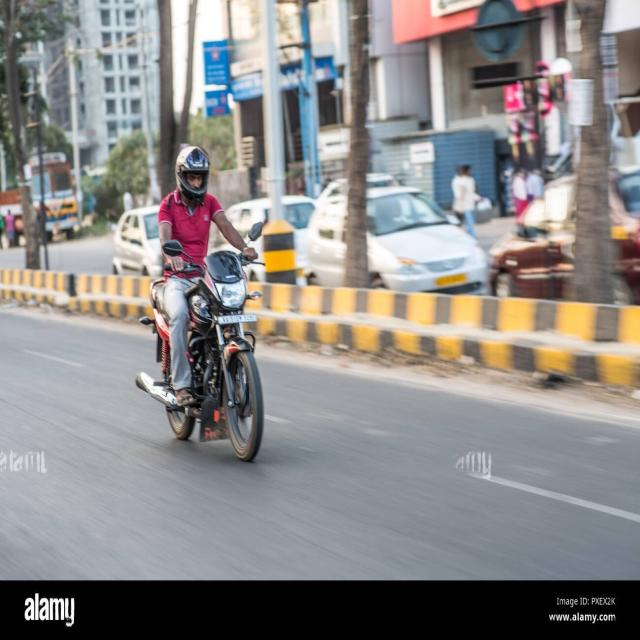car: (366, 185, 486, 293)
motorcycle: (136, 146, 264, 460)
